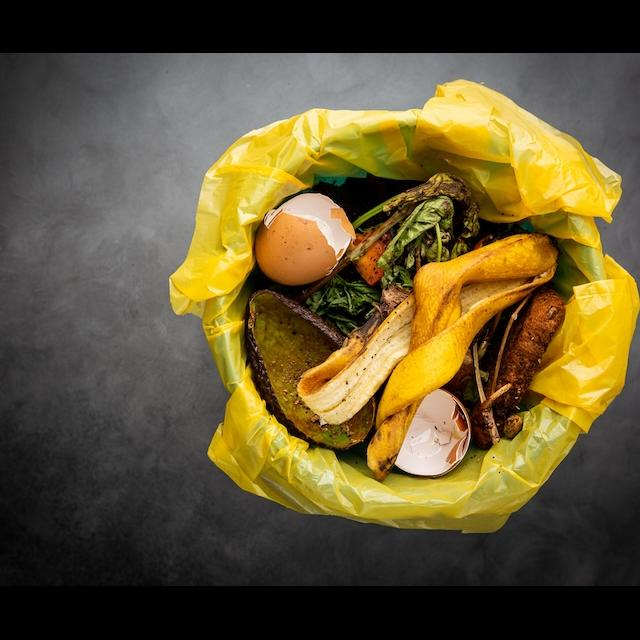food_waste: (324, 238, 554, 454), (249, 283, 388, 456), (360, 175, 489, 270), (258, 196, 356, 302), (490, 288, 549, 439), (390, 385, 478, 477)
